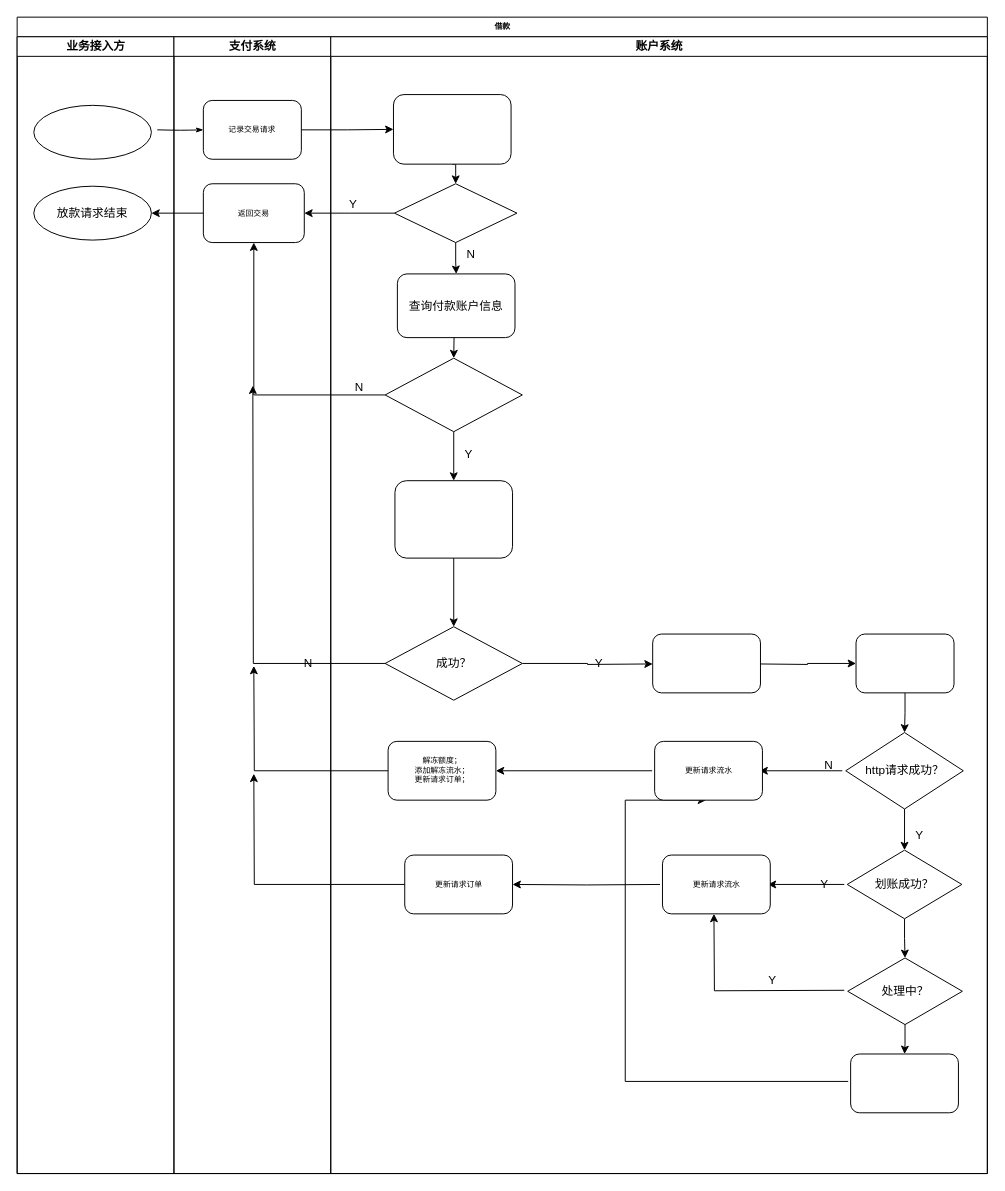
The diagram is 1005 pixels wide and 1191 high, and some of its shapes have lost their labels. Each missing label, with the centre of its shape:
"冻结付款账户； 添加账户流水; 添加请求订单；" goes at [453,519].
"可以转账？" goes at [453,394].
"处理失败" goes at [904,1083].
"存在？" goes at [455,213].
"封装划拨参数； 添加请求流水" goes at [706,663].
"放款请求开始" goes at [92,131].
"查询账户请求订单" goes at [451,129].
"调用浦发划拨接口" goes at [904,663].
